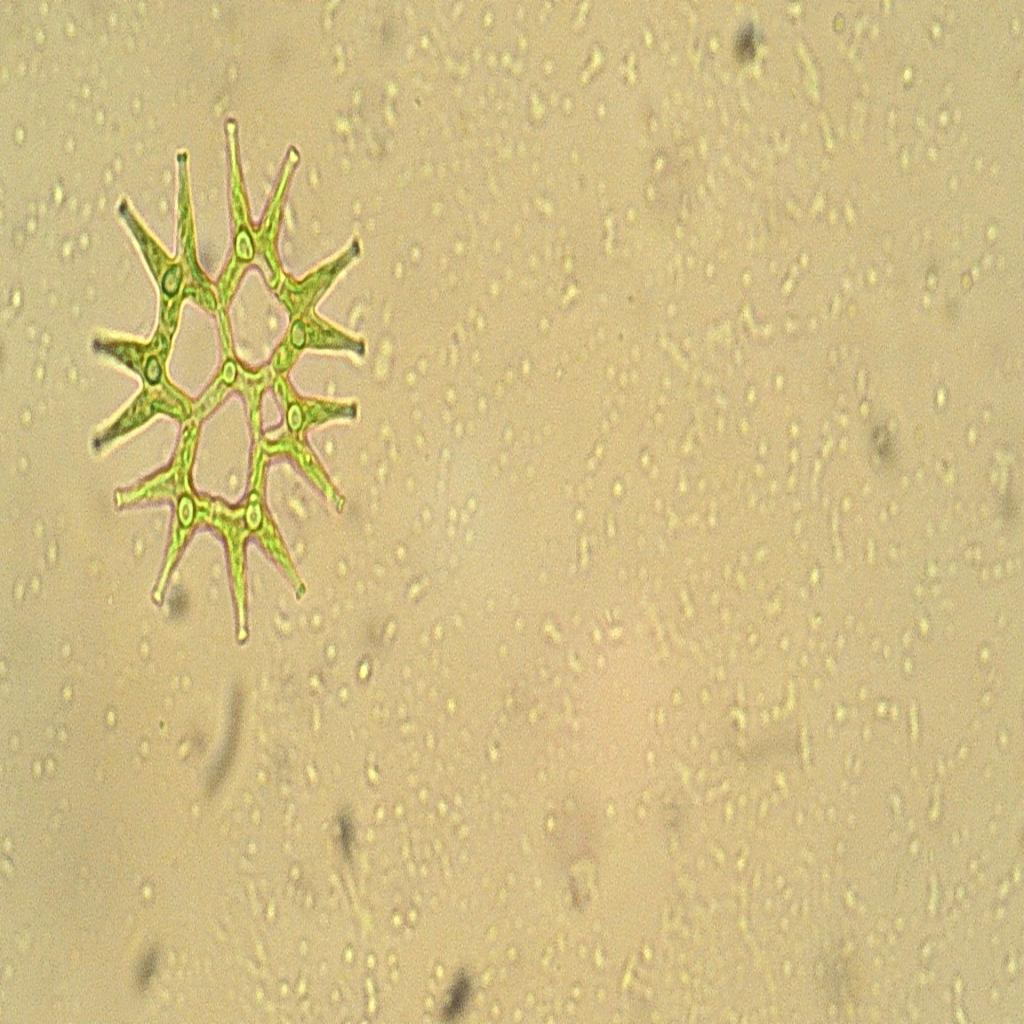Pediastrum_CTH: (71, 106, 381, 655)
